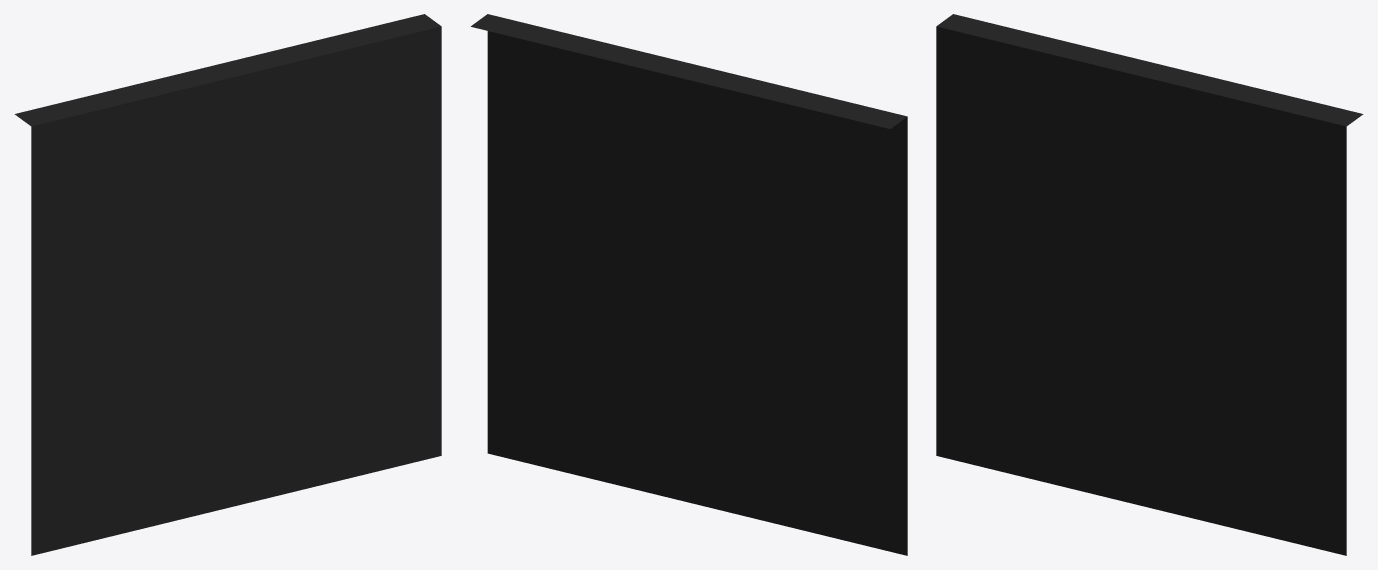
The model's file is M_Wall350White10.fbx.
The picture shows the model from 3 angles, left to right: view 1: azimuth 30°, elevation 25°; view 2: azimuth 150°, elevation 25°; view 3: azimuth 330°, elevation 25°; orthographic projection. The views are drawn at different scales.
Visible parts, largest first — view 1: M_Wall350White10; view 2: M_Wall350White10; view 3: M_Wall350White10.
Part boxes in pixels (<box>): M_Wall350White10: <box>14,14,441,555</box>; M_Wall350White10: <box>471,14,907,555</box>; M_Wall350White10: <box>936,14,1363,555</box>.
Bounding box in the file's own units: 350 × 25 × 350.
